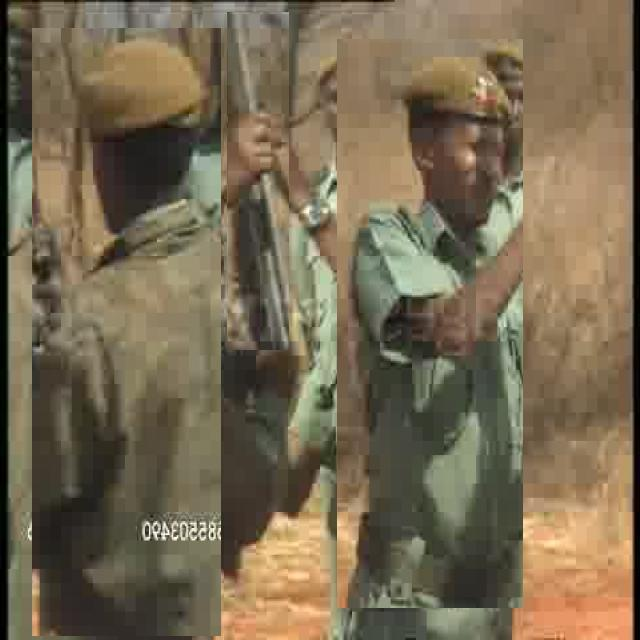poacher: (32, 29, 221, 636), (337, 39, 523, 608), (314, 42, 356, 148)
weapon: (227, 12, 289, 350)
